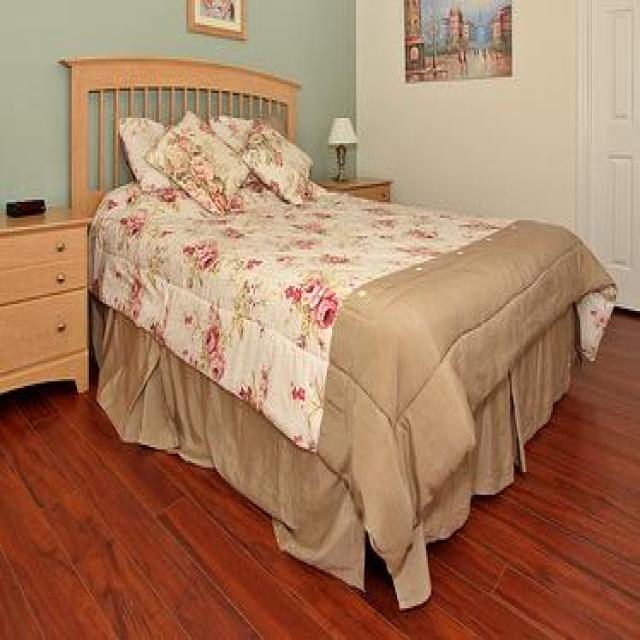bed: (60, 54, 619, 616)
